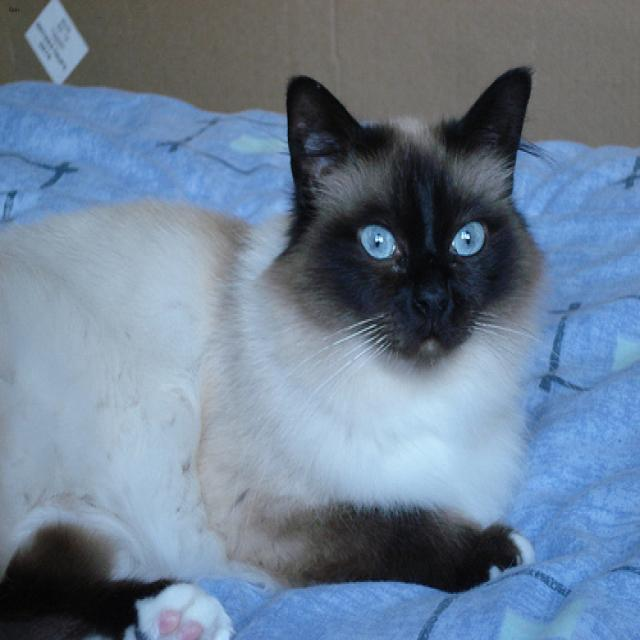Birman: (273, 65, 561, 436)
